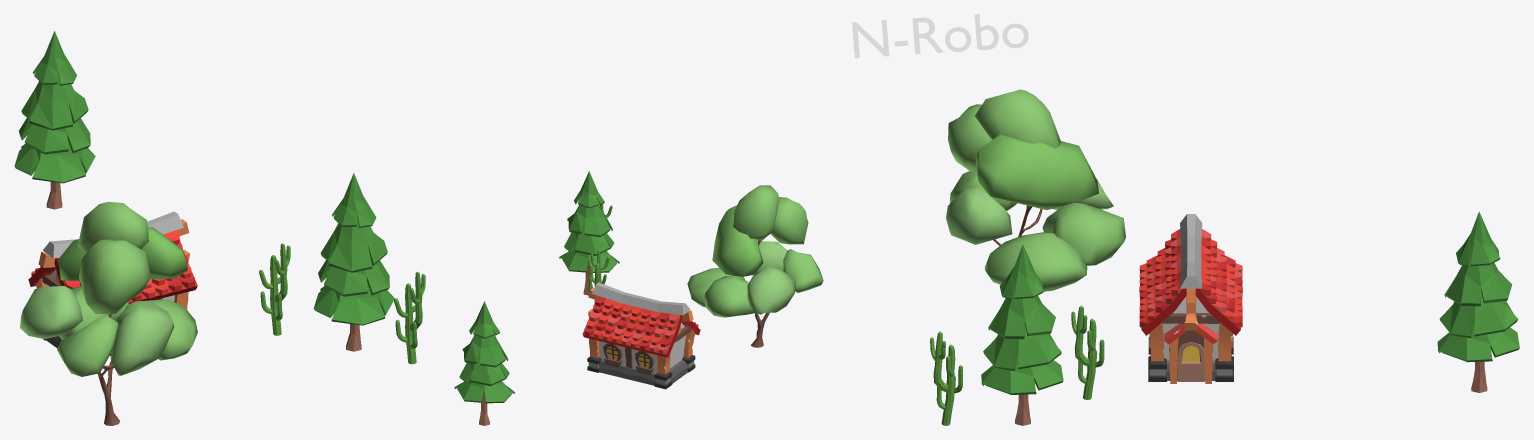
File: pb_thu.glb
3 views of the same model, side by side, from view 1: azimuth 30°, elevation 25°; view 2: azimuth 150°, elevation 25°; view 3: azimuth 270°, elevation 25° (orthographic). The views are drawn at different scales.
Parts seen in each view (by area): view 1: tree_001, fir_001.002, fir_001, house_003, cactus_001, cactus_001.002; view 2: tree_001, house_003, fir_001.002, fir_001, cactus_001.002; view 3: tree_001, house_003, fir_001, fir_001.002, N-ROBO, cactus_001.002, cactus_001.
Boxes of the visible parts, left/top/right/bottom form: tree_001: left=20, top=201, right=197, bottom=425; fir_001.002: left=14, top=31, right=95, bottom=209; fir_001: left=313, top=173, right=394, bottom=351; house_003: left=28, top=211, right=197, bottom=355; cactus_001: left=394, top=271, right=425, bottom=364; cactus_001.002: left=259, top=243, right=290, bottom=335; tree_001: left=687, top=185, right=823, bottom=347; house_003: left=582, top=282, right=700, bottom=389; fir_001.002: left=454, top=301, right=514, bottom=425; fir_001: left=559, top=171, right=619, bottom=295; cactus_001.002: left=589, top=249, right=609, bottom=302; tree_001: left=946, top=89, right=1125, bottom=291; house_003: left=1139, top=214, right=1242, bottom=383; fir_001: left=981, top=244, right=1063, bottom=425; fir_001.002: left=1437, top=211, right=1519, bottom=392; N-ROBO: left=852, top=14, right=1028, bottom=58; cactus_001.002: left=1071, top=305, right=1104, bottom=399; cactus_001: left=930, top=331, right=962, bottom=425.
Bounding box in the file's own units: 12.86 × 13.3 × 21.02.
1 material, 1 textured.
